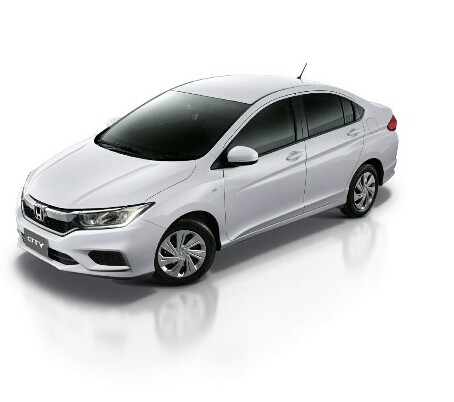sedan: (14, 72, 399, 287)
